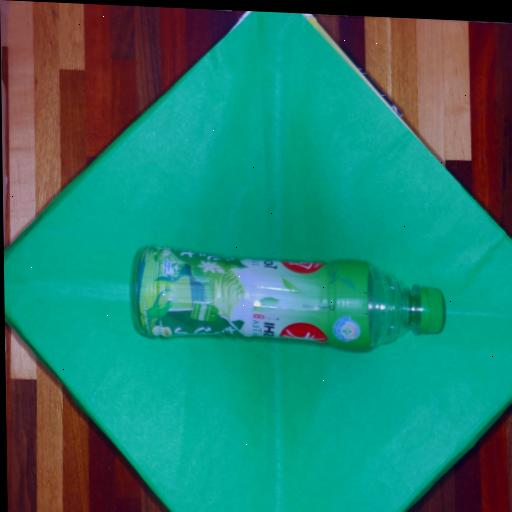bottle: (129, 251, 447, 351)
